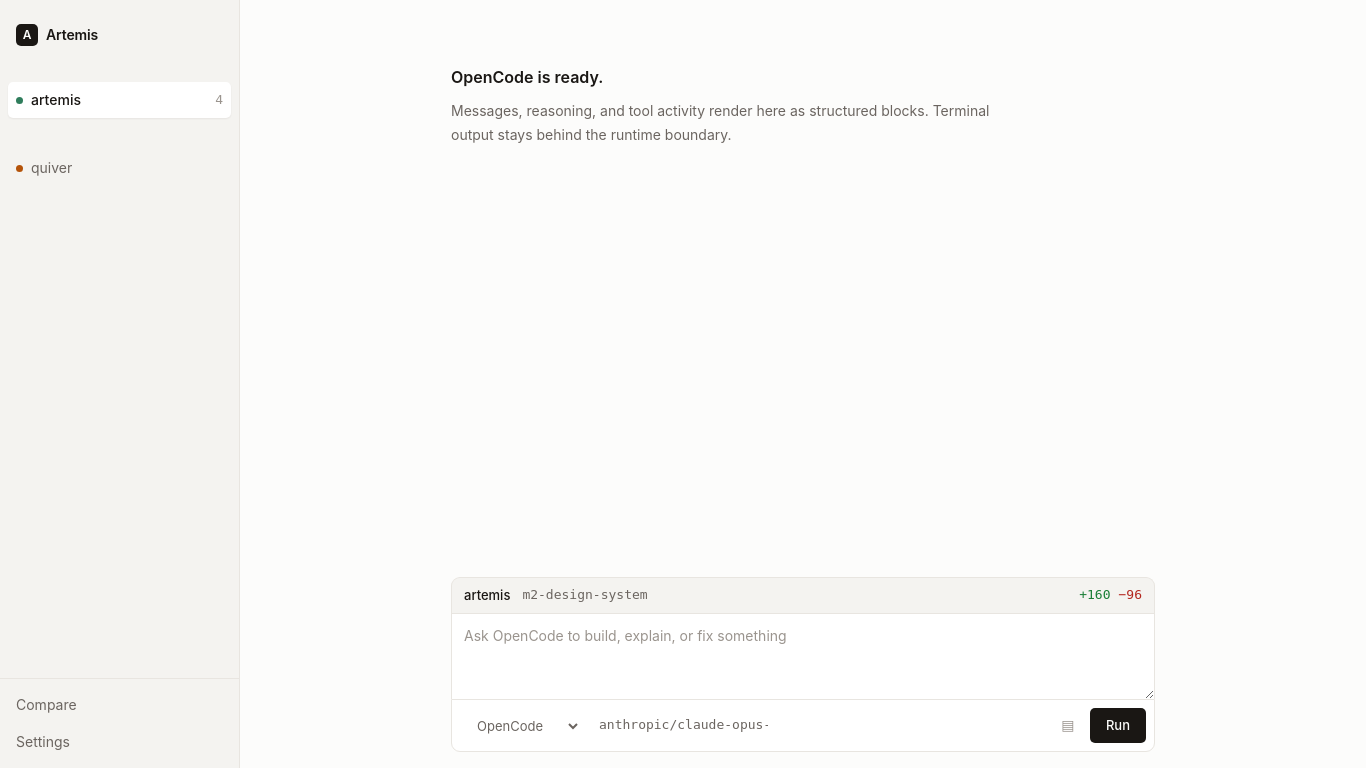
Test case: the inline diff › opens a file's diff from its row
Expected: the button "artemis 4" is shown, x1=8 y1=82 x2=231 y2=118
Type "go" into the text box named "prompt" at (803, 657), box x1=452 y1=614 x2=1154 y2=699
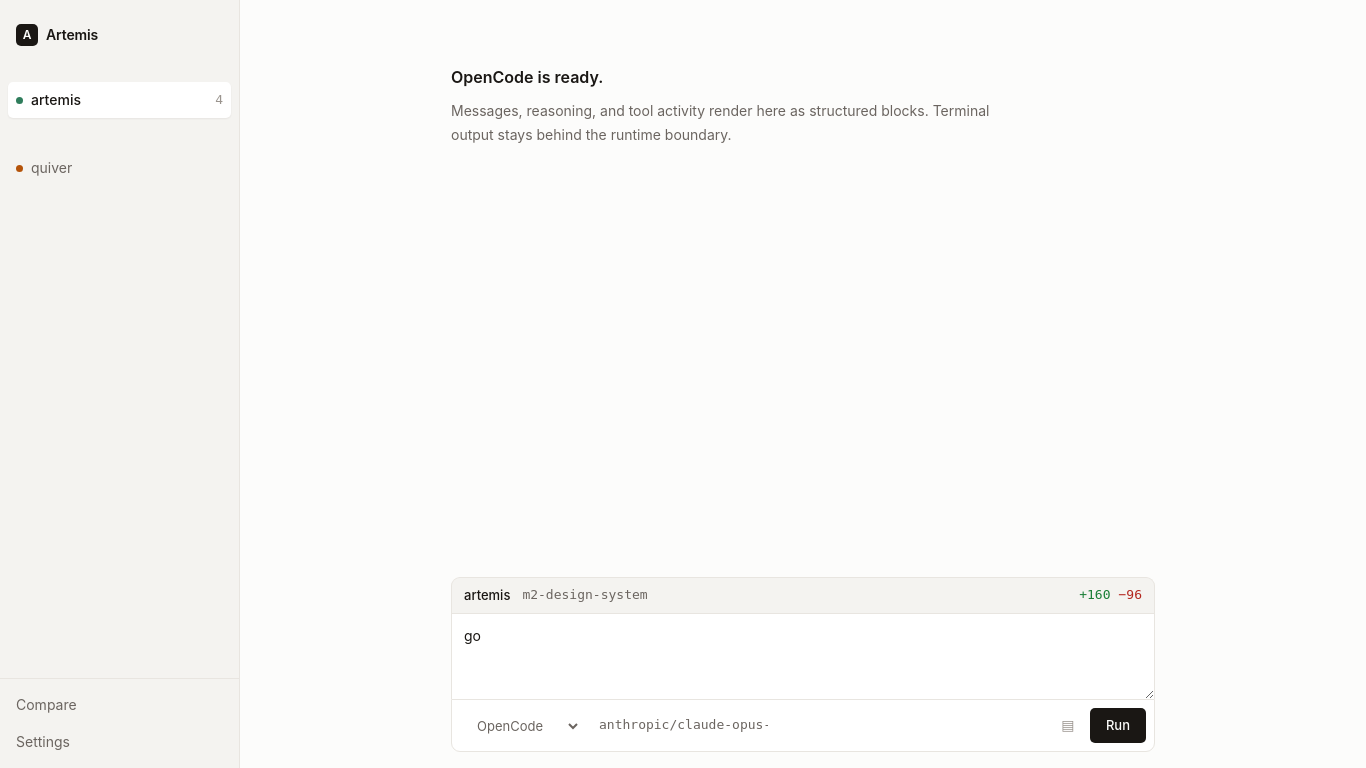
Click the button "Run" at (1118, 726), box x1=1090 y1=708 x2=1146 y2=743
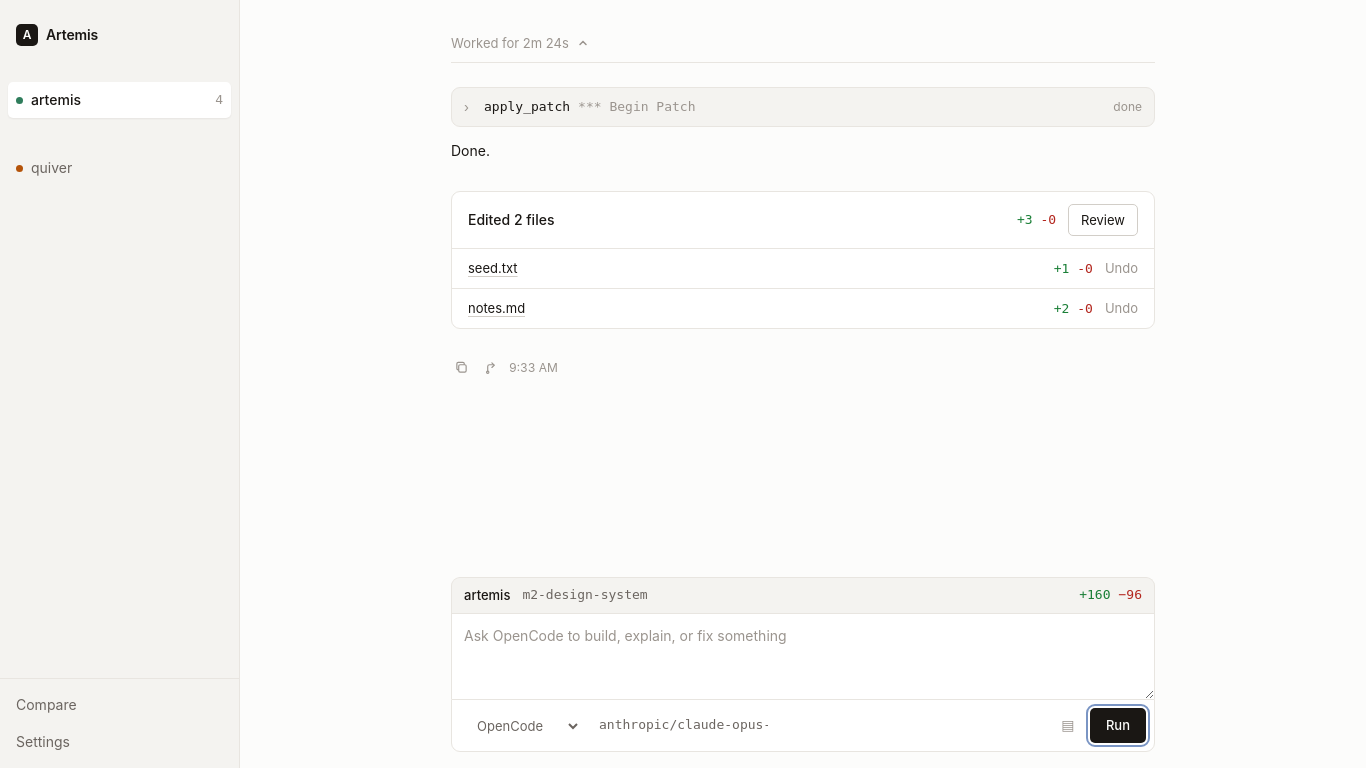
Click the button "seed.txt" at (493, 268), box x1=468 y1=257 x2=518 y2=279
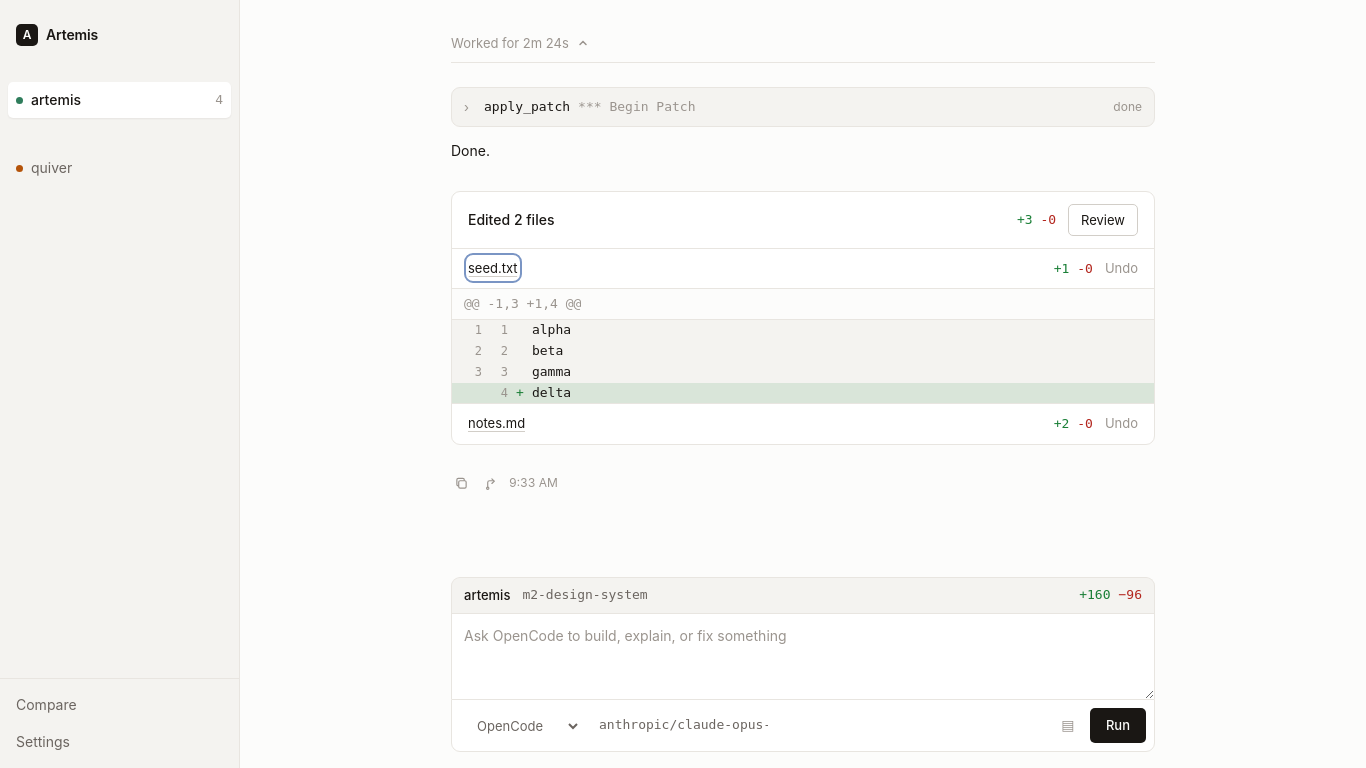
Result: the element with test id "diff-view" shows "delta" at x1=532 y1=385 x2=571 y2=400
Result: the element with test id "diff-view" shows "alpha" at x1=532 y1=322 x2=571 y2=337
